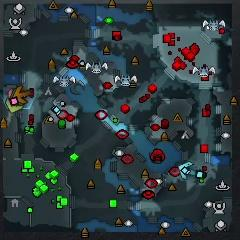x1: (7, 88, 14, 98)
x2: (5, 98, 24, 114)
x3: (180, 161, 197, 180)
x5: (14, 85, 35, 104)
